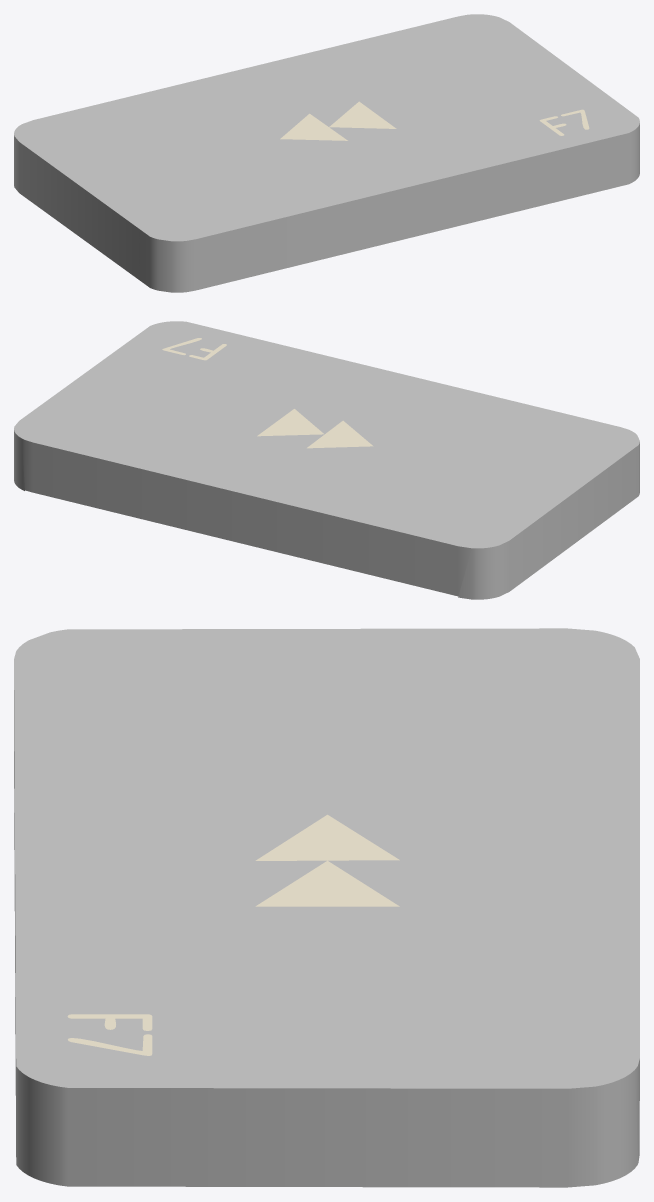
The model's file is original-52.obj.
The picture shows the model from 3 angles, top to bottom: view 1: azimuth 30°, elevation 25°; view 2: azimuth 150°, elevation 25°; view 3: azimuth 270°, elevation 25°; orthographic projection. The views are drawn at different scales.
Visible parts, largest first — view 1: mesh51/mesh51-geometry#mesh51-geometry; view 2: mesh51/mesh51-geometry#mesh51-geometry; view 3: mesh51/mesh51-geometry#mesh51-geometry.
Boxes of the visible parts, <box> form: mesh51/mesh51-geometry#mesh51-geometry: <box>14,14,639,292</box>; mesh51/mesh51-geometry#mesh51-geometry: <box>14,321,639,599</box>; mesh51/mesh51-geometry#mesh51-geometry: <box>14,628,639,1187</box>.
Bounding box in the file's own units: 0.0558 × 0.0056 × 0.032.
